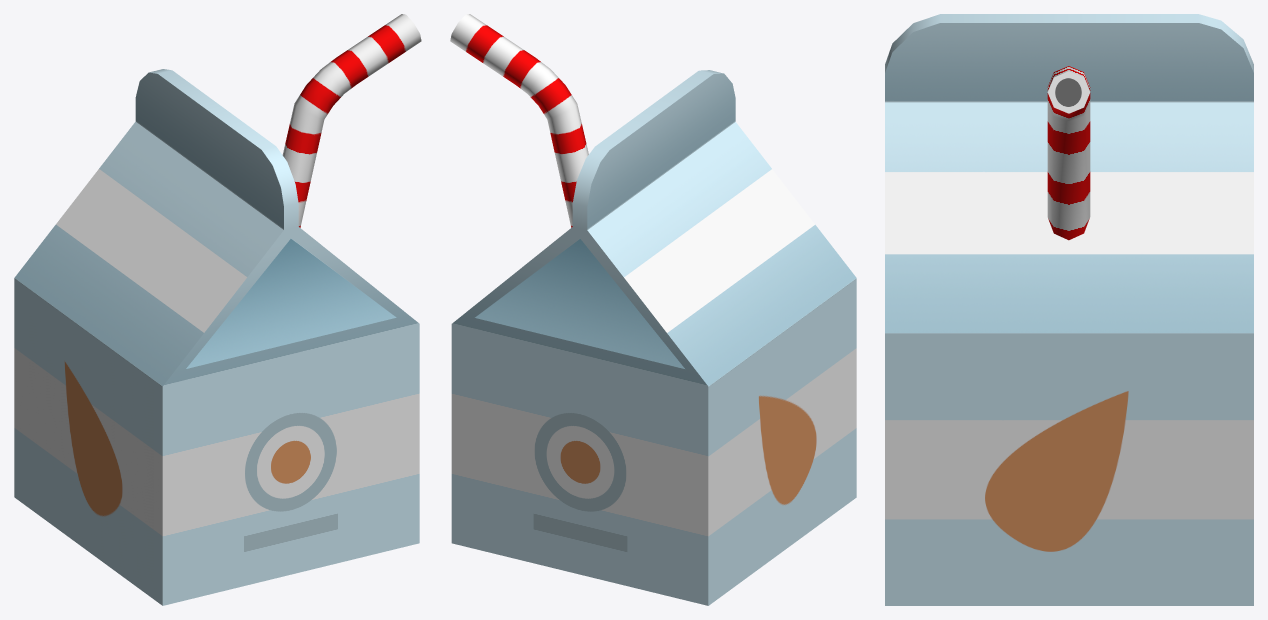
Rendered from almondMilk.fbx.
The picture shows the model from 3 angles, left to right: view 1: azimuth 30°, elevation 25°; view 2: azimuth 150°, elevation 25°; view 3: azimuth 270°, elevation 25°; orthographic projection. The views are drawn at different scales.
Visible parts, largest first — view 1: Extrude_NURBS, Cylinder; view 2: Extrude_NURBS, Cylinder; view 3: Extrude_NURBS, Cylinder.
Part boxes in pixels (bbox=[...]): Extrude_NURBS: bbox=[14, 69, 419, 605]; Cylinder: bbox=[282, 14, 421, 227]; Extrude_NURBS: bbox=[451, 70, 856, 605]; Cylinder: bbox=[450, 14, 588, 227]; Extrude_NURBS: bbox=[885, 14, 1253, 605]; Cylinder: bbox=[1047, 66, 1090, 240].
Size of the model in its own units: 153 by 205 by 120.
2 materials, 2 textured.
